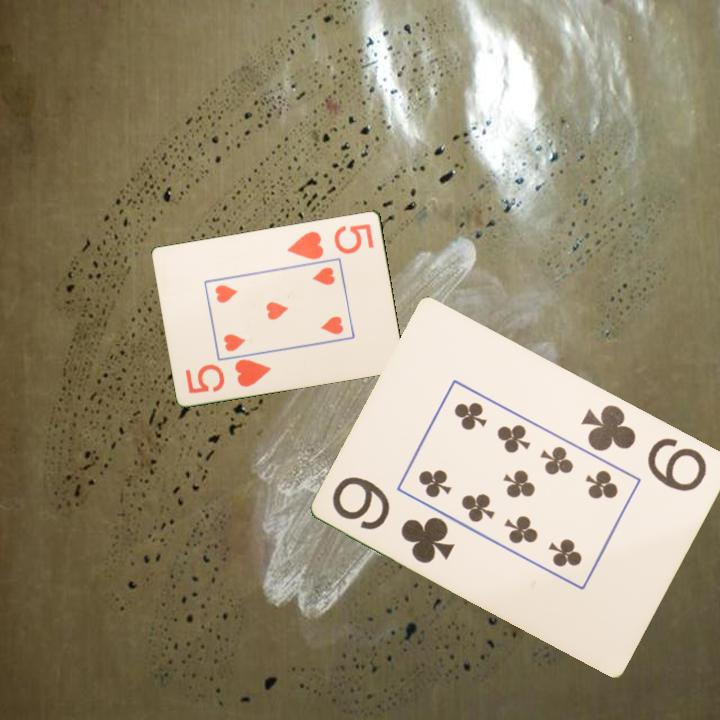5h: (284, 220, 377, 262), (182, 355, 274, 396)
9c: (577, 400, 711, 495), (329, 472, 458, 567)
